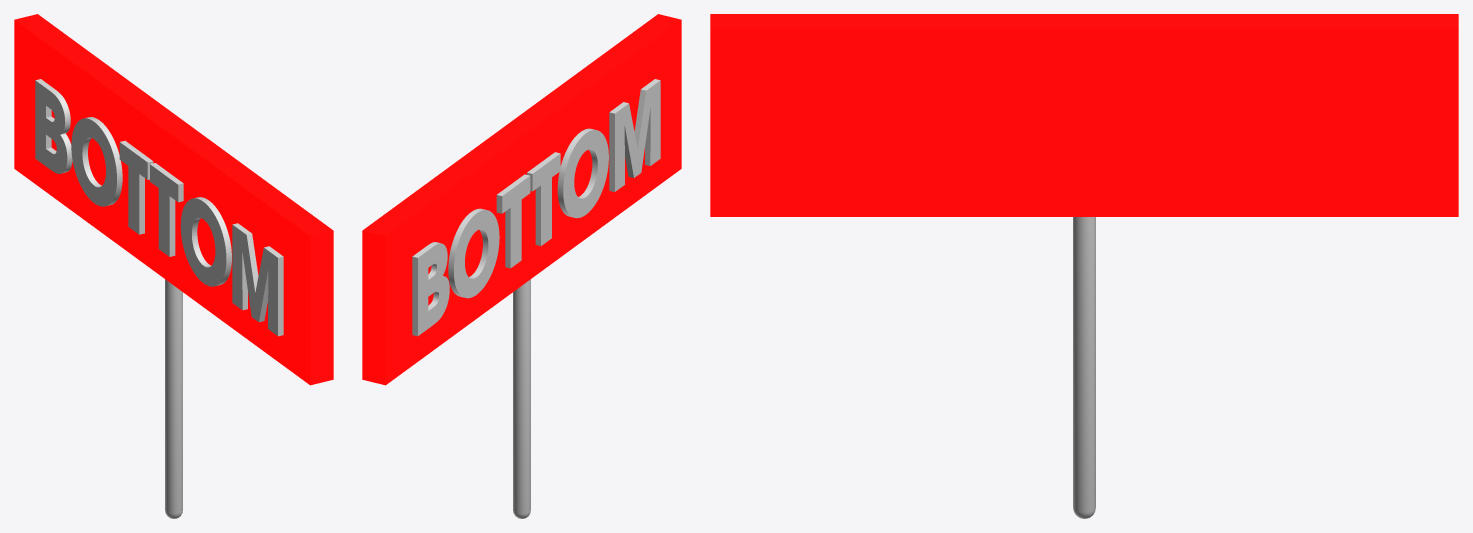
File: bottom.fbx
The picture shows the model from 3 angles, left to right: view 1: azimuth 30°, elevation 25°; view 2: azimuth 150°, elevation 25°; view 3: azimuth 270°, elevation 25°; orthographic projection. The views are drawn at different scales.
Visible parts, largest first — view 1: Cube, Cylinder, Cap_1_6, Cap_1_5, Cap_1_2, Cap_1, M, Cap_1_3, Cap_1_4, O_2, O, B (+2 smaller); view 2: Cube, Cylinder, Cap_1_6, Cap_1_5, Cap_1_2, Cap_1, M, Cap_1_3, Cap_1_4, O_2, O, B (+2 smaller); view 3: Cube, Cylinder.
Part boxes in pixels (bbox=[...]): Cube: bbox=[14, 14, 333, 385]; Cylinder: bbox=[165, 279, 182, 518]; Cap_1_6: bbox=[232, 224, 277, 335]; Cap_1_5: bbox=[180, 198, 226, 286]; Cap_1_2: bbox=[71, 118, 116, 206]; Cap_1: bbox=[35, 80, 67, 173]; M: bbox=[232, 223, 283, 336]; Cap_1_3: bbox=[119, 142, 147, 234]; Cap_1_4: bbox=[150, 164, 178, 256]; O_2: bbox=[192, 197, 231, 285]; O: bbox=[82, 117, 122, 205]; B: bbox=[36, 79, 72, 173]; Cube: bbox=[362, 14, 681, 385]; Cylinder: bbox=[513, 279, 530, 518]; Cap_1_6: bbox=[615, 80, 660, 191]; Cap_1_5: bbox=[563, 130, 608, 218]; Cap_1_2: bbox=[454, 210, 499, 298]; Cap_1: bbox=[418, 243, 449, 335]; M: bbox=[609, 79, 659, 191]; Cap_1_3: bbox=[502, 176, 530, 267]; Cap_1_4: bbox=[532, 153, 560, 245]; O_2: bbox=[557, 128, 597, 217]; O: bbox=[448, 208, 488, 297]; B: bbox=[412, 242, 443, 336]; Cube: bbox=[710, 14, 1458, 216]; Cylinder: bbox=[1073, 217, 1095, 518].
Bounding box in the file's own units: 3.71 × 48.17 × 65.74.
